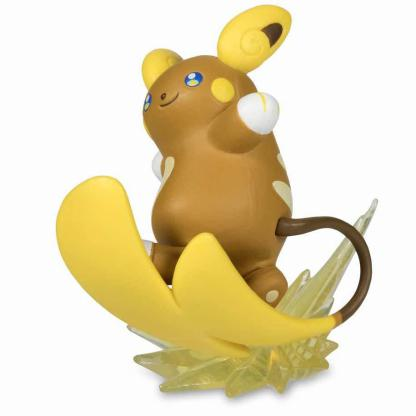Raichu: (1, 6, 416, 416)
